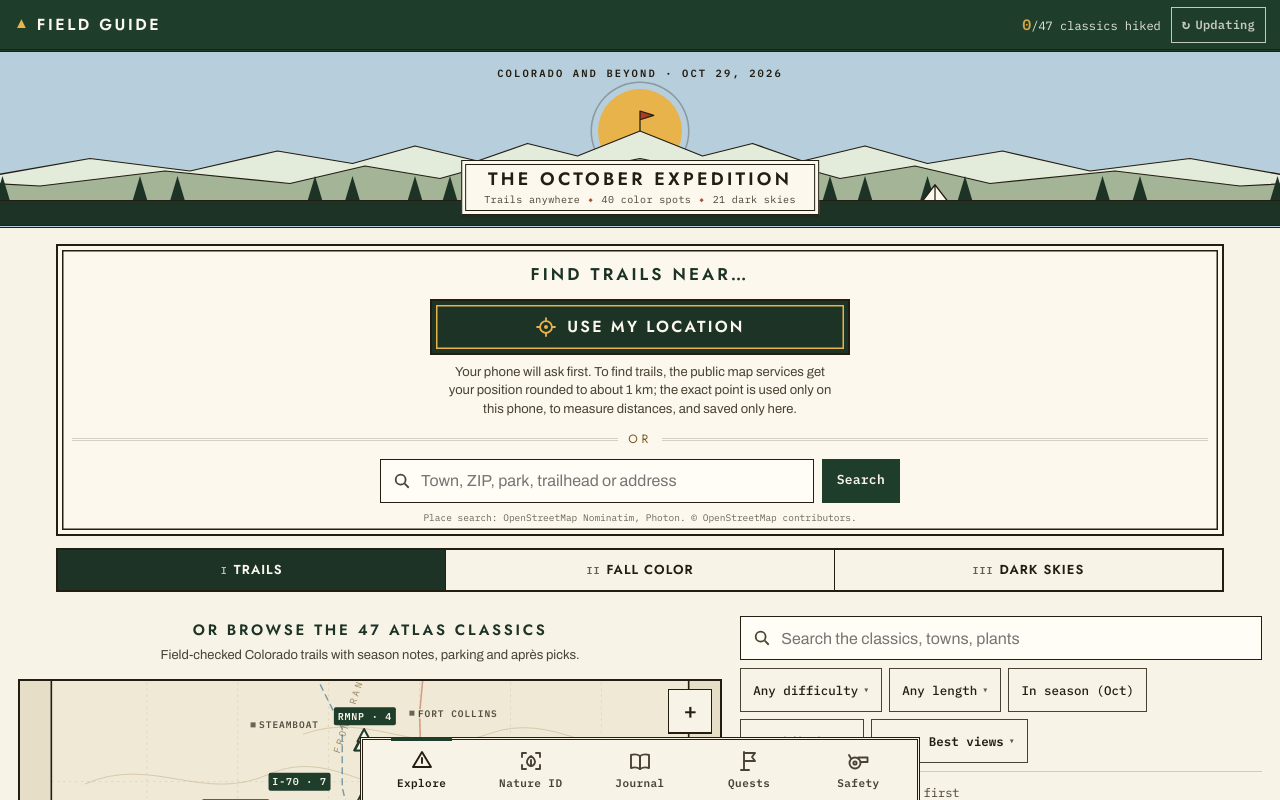
it: location-first discovery › asks for location only when tapped; a refusal is explained and lands on address entry
The width and height of the screenshot is (1280, 800).
Click the button "Use my location" at (640, 327), box [430,299,850,355]
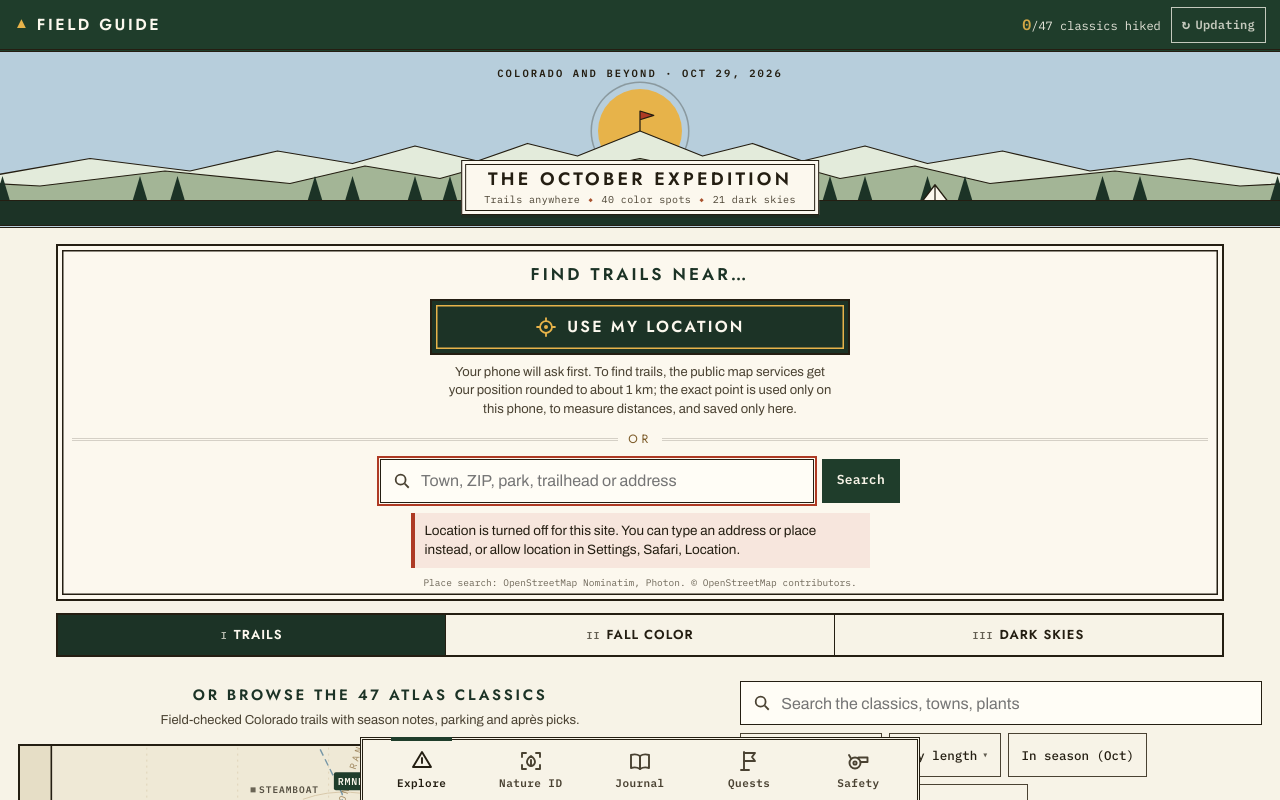
Expected: the message shows "Location is turned off", [424,523,816,557]
